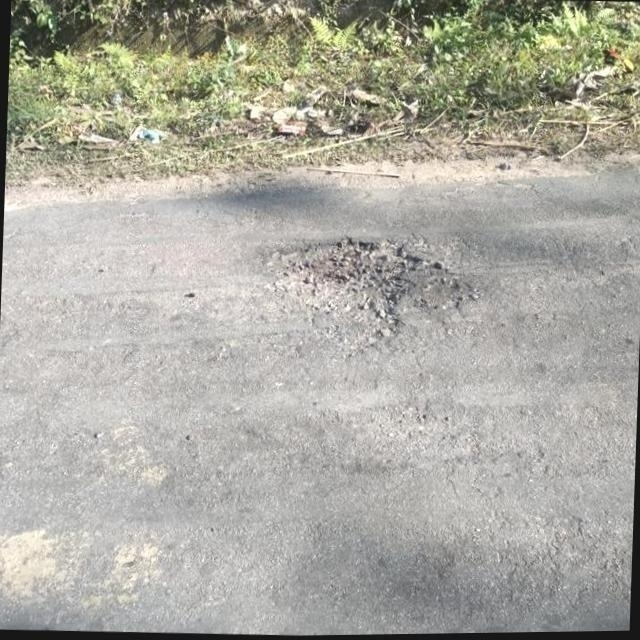pothole: (330, 238, 440, 318)
